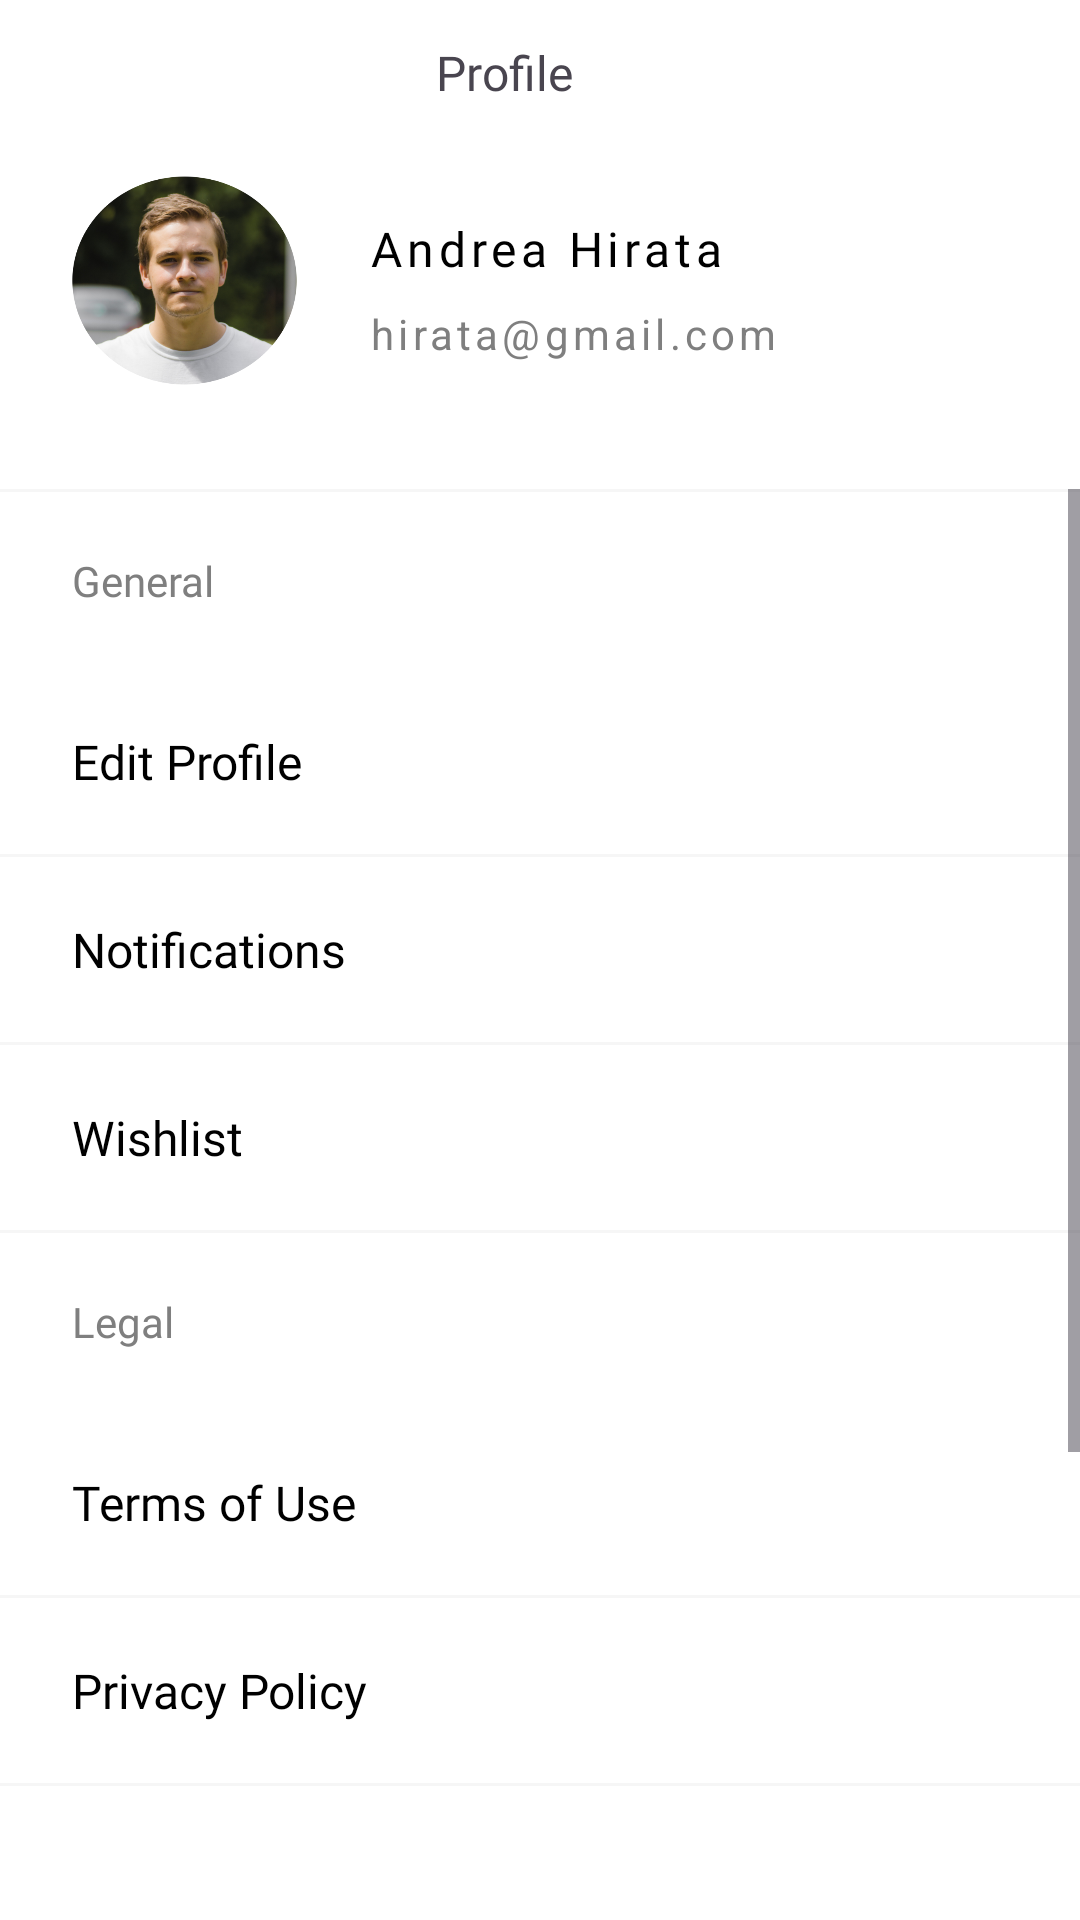

Locate icon controls on the screen. Image size 1080 × 1920, boxes as (x1=x1, y1=y1, x2=x2, y2=y2).
user pic: (x1=72, y1=176, x2=297, y2=384)
